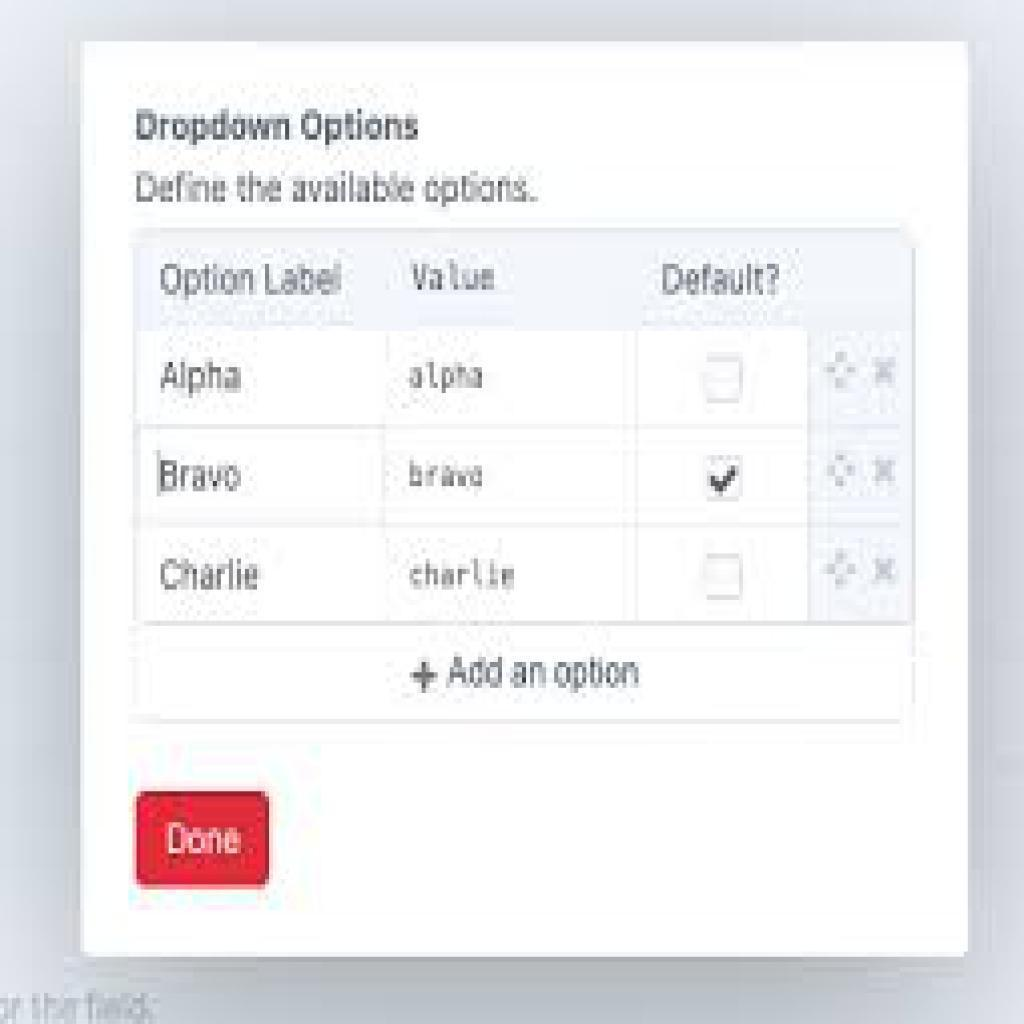button: (135, 625, 912, 722), (137, 787, 270, 888)
checkbox: (699, 354, 749, 407), (703, 453, 750, 505), (701, 549, 744, 602)
table: (134, 230, 915, 623)
